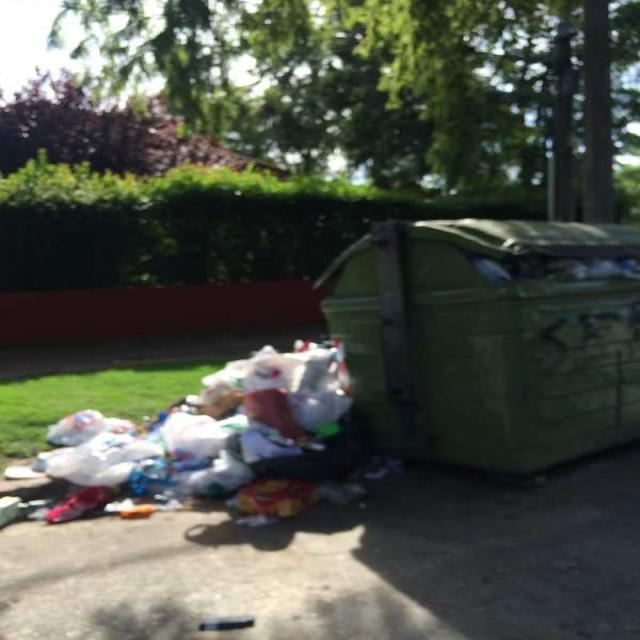garbage: (0, 407, 350, 534), (193, 334, 372, 406), (469, 258, 639, 286), (185, 608, 272, 636)
